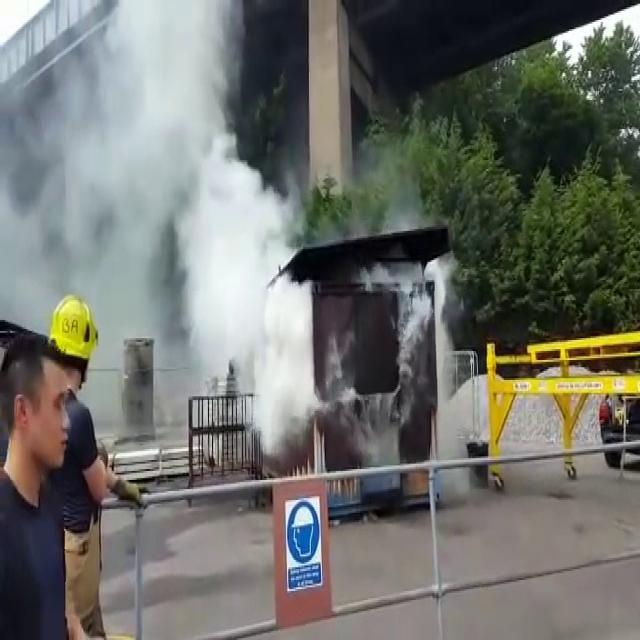Smoke: (137, 28, 318, 420), (435, 284, 454, 446)
